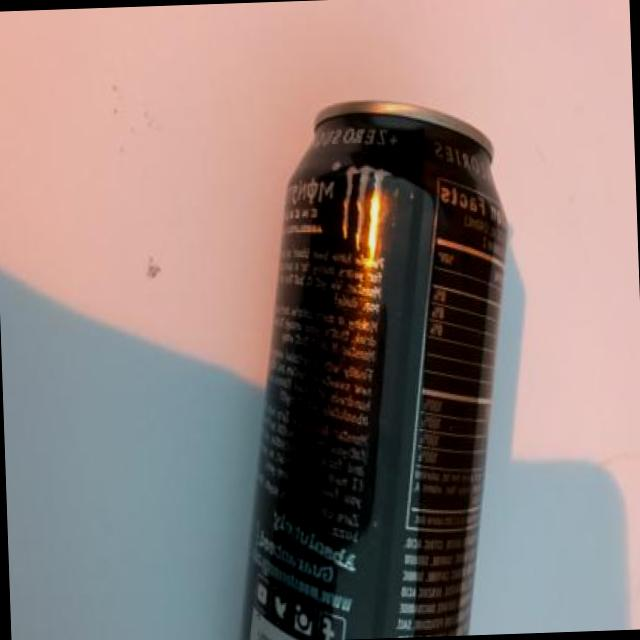kim_loai: (243, 104, 508, 640)
